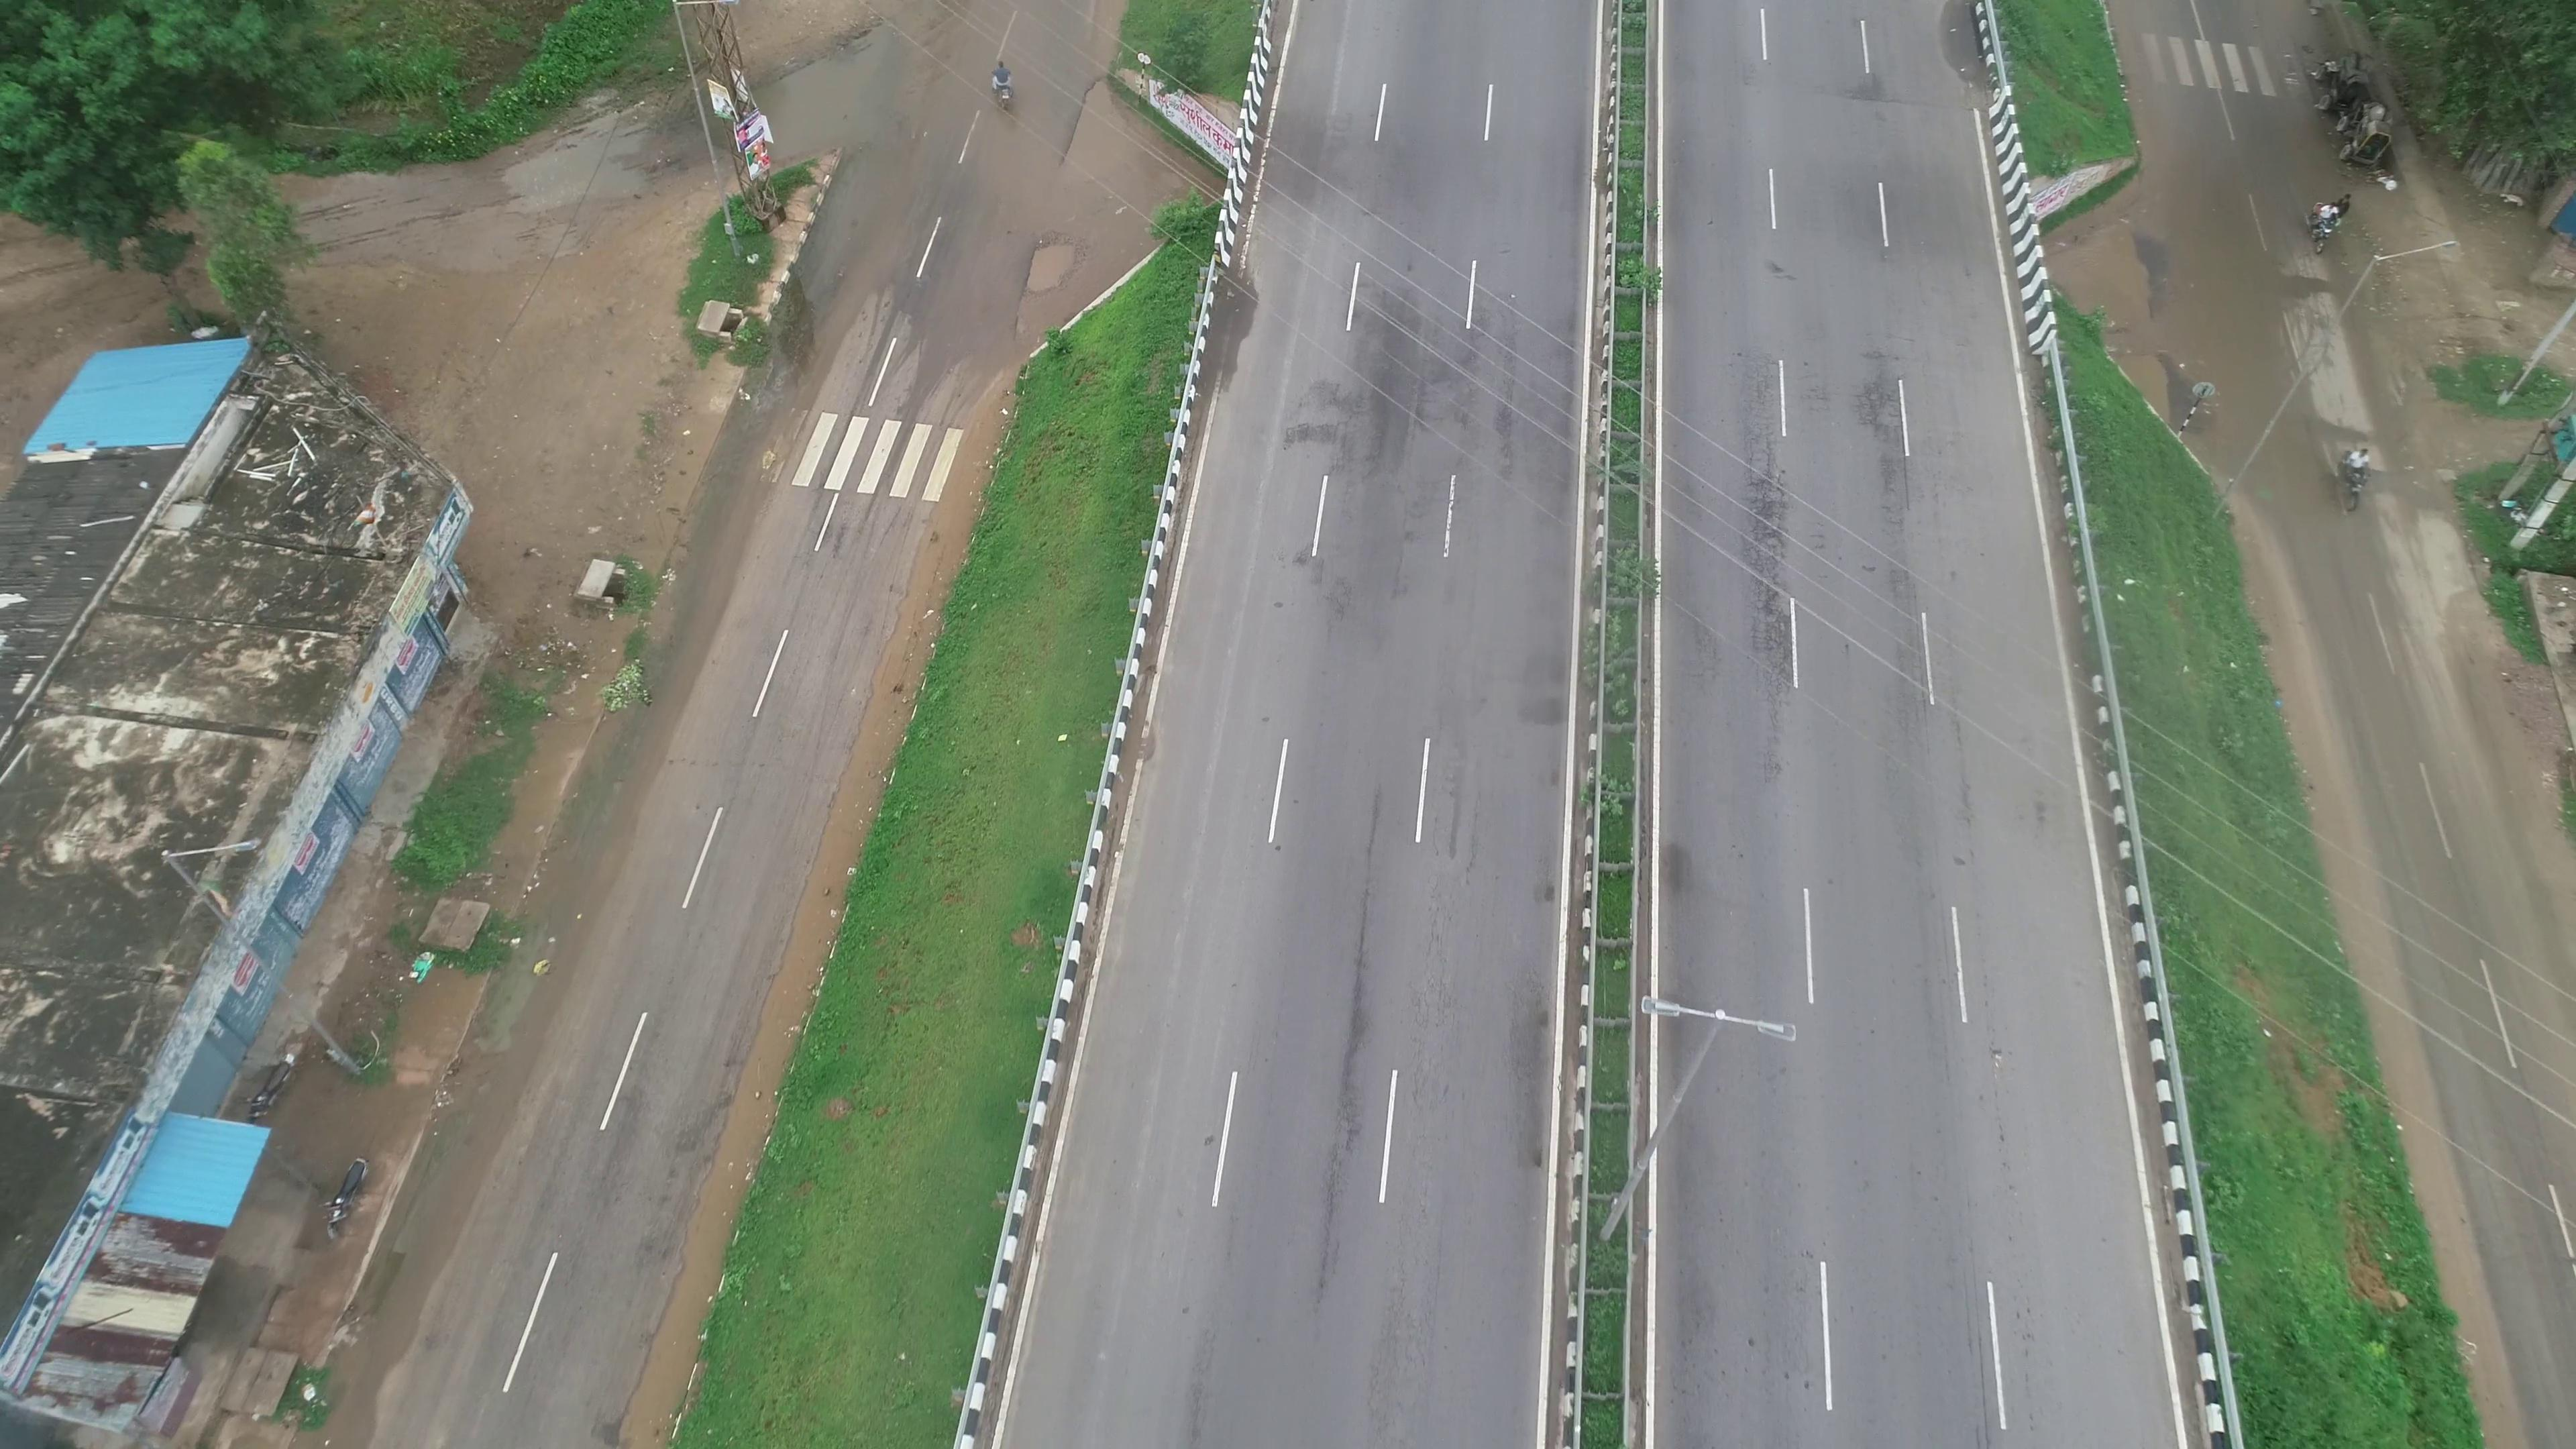Alligator_cracks: (1739, 393, 1799, 736)
Longitudinal_cracks: (1295, 796, 1389, 1306)
Potholes: (996, 212, 1095, 303)
